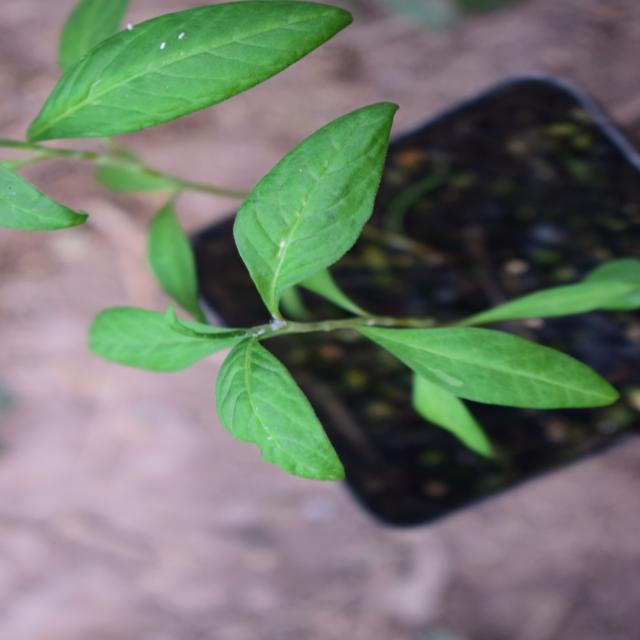white_smart_weed: (160, 109, 503, 629)
